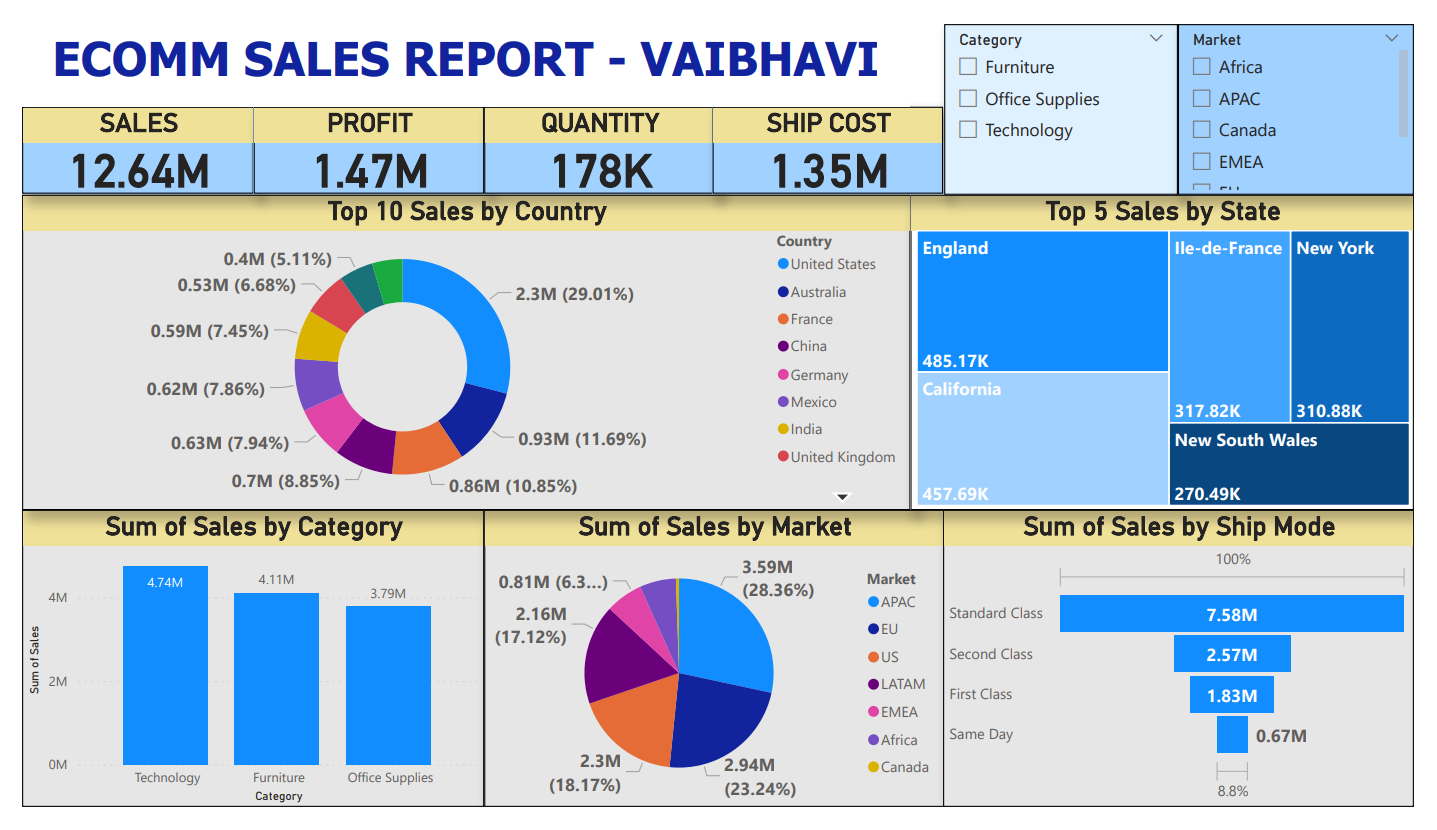

The page's visual inventory and layout, read from the dashboard file:
{"tool":"powerbi","page":{"name":"Page 1","canvas":[1280,720],"ordinal":0},"visuals":[{"type":"columnChart","fields":{"Category":["Orders.Category"],"Y":["Sum(Orders.Sales)"]},"box":[0,446.7,425,273.3],"z":0},{"type":"pieChart","fields":{"Category":["Orders.Market"],"Y":["Sum(Orders.Sales)"]},"box":[425,446.7,423.3,273.3],"z":1000},{"type":"funnel","fields":{"Category":["Orders.Ship Mode"],"Y":["Sum(Orders.Sales)"]},"box":[846.7,446.7,433.3,273.3],"z":2000},{"type":"donutChart","title":"Top 10 Sales by Country","fields":{"Category":["Orders.Country"],"Y":["Sum(Orders.Sales)"]},"box":[0,156.7,816.7,290],"z":3000},{"type":"treemap","title":"Top 5 Sales by State","fields":{"Group":["Orders.State"],"Values":["Sum(Orders.Sales)"]},"box":[816.7,156.7,463.3,290],"z":4000},{"type":"card","title":"SALES","fields":{"Values":["Sum(Orders.Sales)"]},"box":[0,76.3,213.3,80],"z":5000},{"type":"card","title":"PROFIT","fields":{"Values":["Sum(Orders.Profit)"]},"box":[213.3,76.3,211.7,80],"z":6000},{"type":"card","title":"QUANTITY","fields":{"Values":["Sum(Orders.Quantity)"]},"box":[425,76.3,211.7,80],"z":7000},{"type":"card","title":"SHIP COST","fields":{"Values":["Sum(Orders.Shipping Cost)"]},"box":[635,76.3,211.7,80],"z":8000},{"type":"slicer","fields":{"Values":["Orders.Category"]},"box":[848.3,0,215,156.7],"z":8001},{"type":"slicer","fields":{"Values":["Orders.Market"]},"box":[1063.3,0,216.7,156.7],"z":8002},{"type":"textbox","box":[0,0,816.2,76.2],"z":8003}]}

Visuals, with their boxes in screenshot pixels (x1, y1, x2, y2), scaled from the page's 1280x720 canvas onto the 1437x830 screenshot:
columnChart - Orders.Category x Sum(Orders.Sales): x1=0 y1=515 x2=477 y2=829
pieChart - Orders.Market x Sum(Orders.Sales): x1=477 y1=515 x2=952 y2=829
funnel - Orders.Ship Mode x Sum(Orders.Sales): x1=951 y1=515 x2=1436 y2=829
"Top 10 Sales by Country" donutChart: x1=0 y1=181 x2=917 y2=515
"Top 5 Sales by State" treemap: x1=917 y1=181 x2=1436 y2=515
"SALES" card: x1=0 y1=88 x2=239 y2=180
"PROFIT" card: x1=239 y1=88 x2=477 y2=180
"QUANTITY" card: x1=477 y1=88 x2=715 y2=180
"SHIP COST" card: x1=713 y1=88 x2=951 y2=180
slicer - Orders.Category: x1=952 y1=0 x2=1194 y2=181
slicer - Orders.Market: x1=1194 y1=0 x2=1436 y2=181
textbox: x1=0 y1=0 x2=916 y2=88
